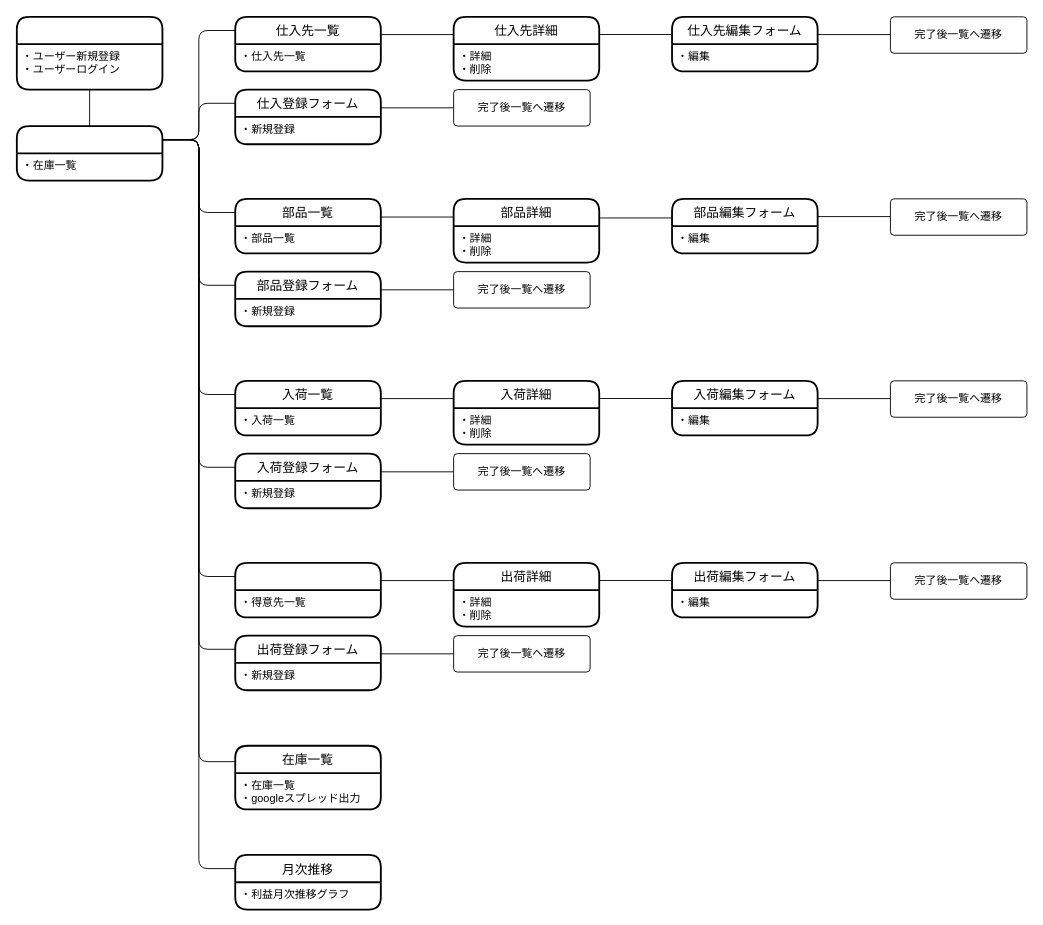
The diagram is 1043 pixels wide and 925 high, and some of its shapes have lost their labels. The shapes that lost their labels are listed below. From the top down, each one's box as (x1, y1, x2, y2) in pixels, then its label:
(15, 15, 163, 90): サインアップ・ログイン
(15, 125, 163, 181): TOPページ
(234, 561, 381, 618): 出荷一覧
